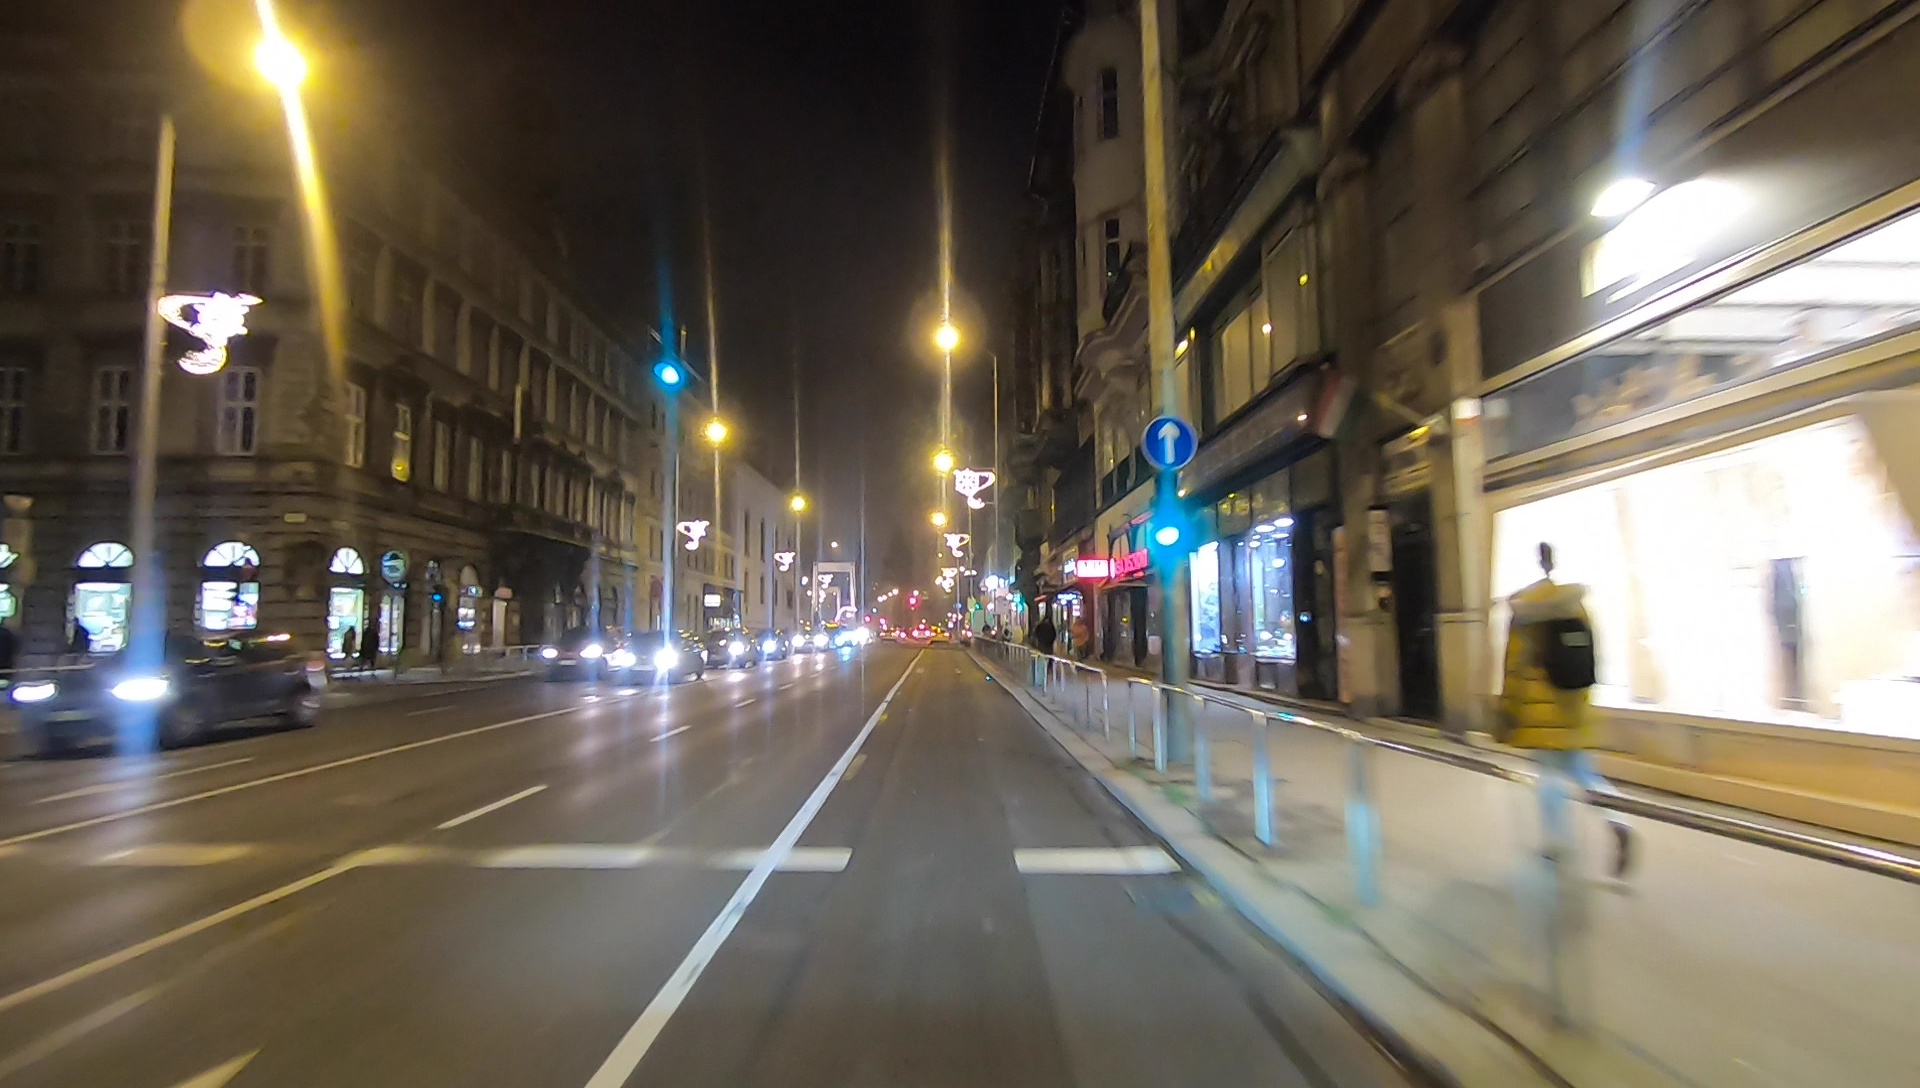person: (1499, 536, 1638, 891), (63, 617, 92, 694), (1071, 615, 1095, 678), (1032, 611, 1054, 682), (360, 617, 381, 679), (339, 622, 355, 681)
